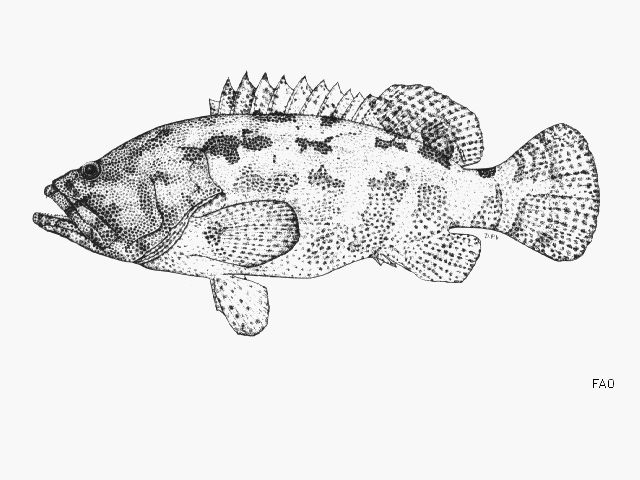fish: (32, 69, 601, 337)
